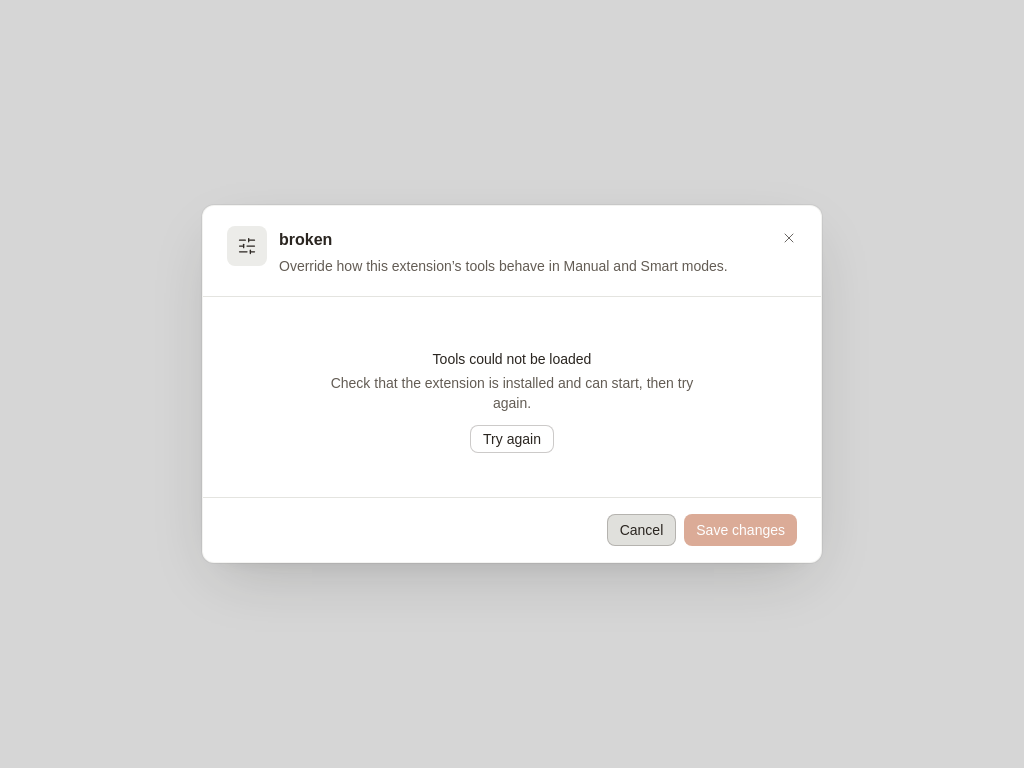
Test case: PermissionModal › shows an actionable error state and can retry
Check: the text "Tools could not be loaded" is shown, box top-left (433, 351), bottom-right (591, 367)
Click the button "Try again" at (512, 439), box top-left (470, 425), bottom-right (554, 453)
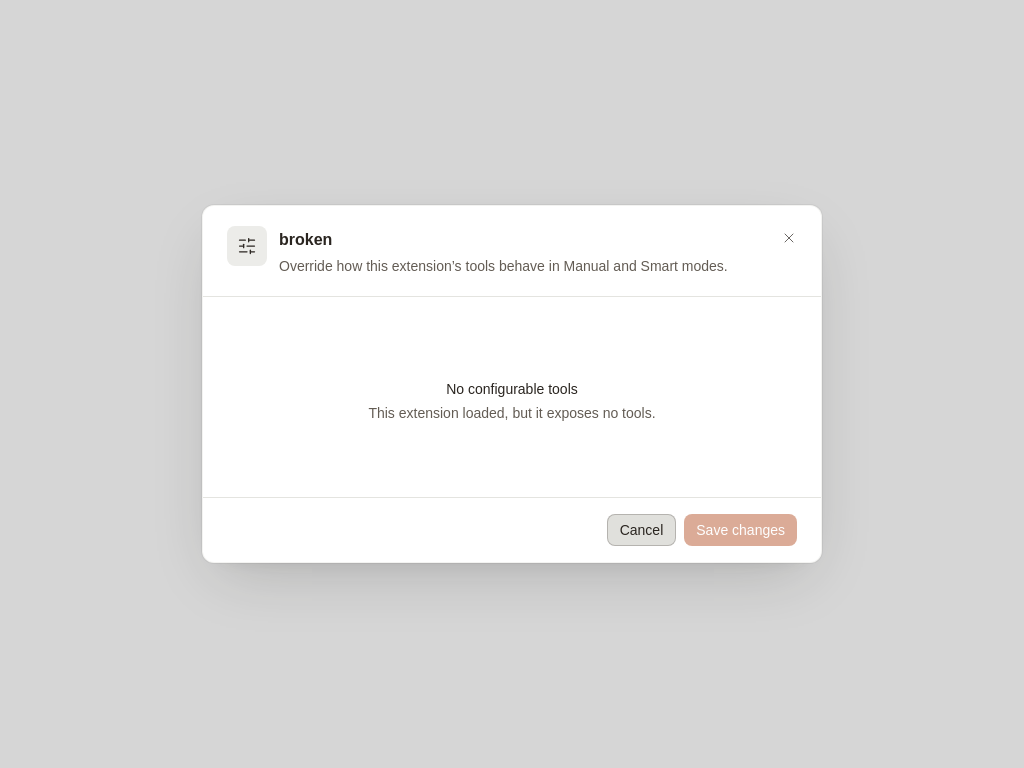
Check: the text "No configurable tools" is shown, box top-left (446, 379), bottom-right (578, 399)
